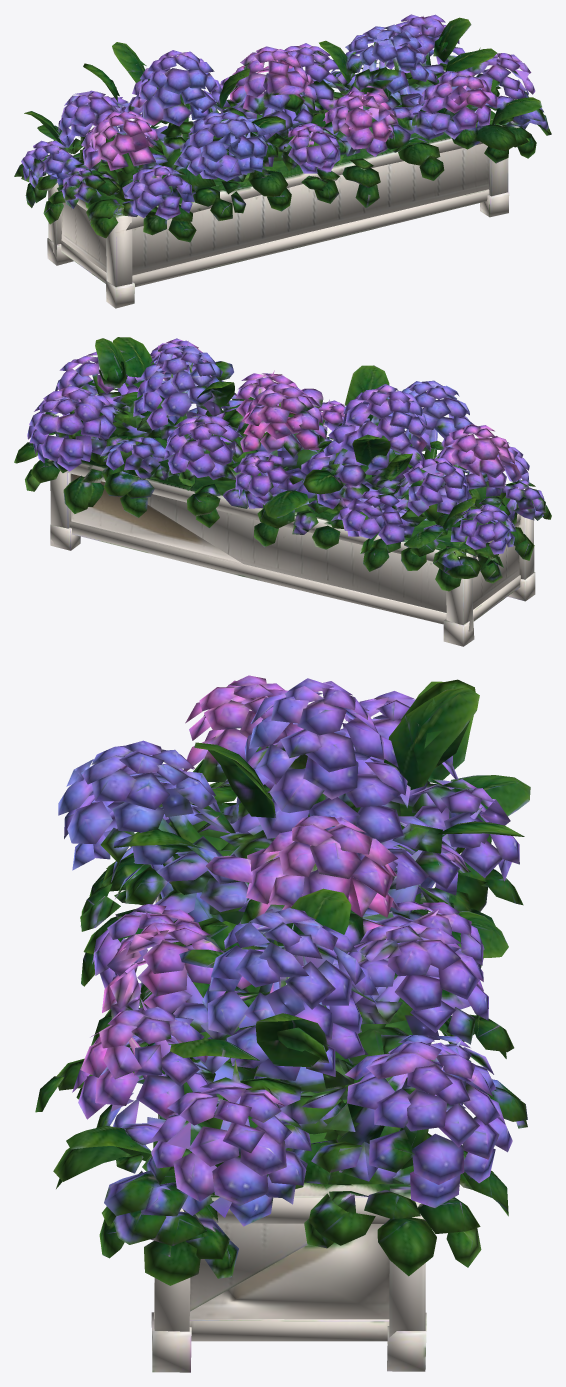
Rendered from hydrangea.glb.
The picture shows the model from 3 angles, top to bottom: view 1: azimuth 30°, elevation 25°; view 2: azimuth 150°, elevation 25°; view 3: azimuth 270°, elevation 25°; orthographic projection. The views are drawn at different scales.
Parts seen in each view (by area): view 1: hydrangea_LOD0; view 2: hydrangea_LOD0; view 3: hydrangea_LOD0.
Boxes of the visible parts, x1=… form: hydrangea_LOD0: x1=14, y1=14, x2=551, y2=308; hydrangea_LOD0: x1=14, y1=337, x2=551, y2=646; hydrangea_LOD0: x1=35, y1=675, x2=530, y2=1372.
Bounding box in the file's own units: 1 × 0.4139 × 0.461.
Materials: 1 (1 with a texture image).
